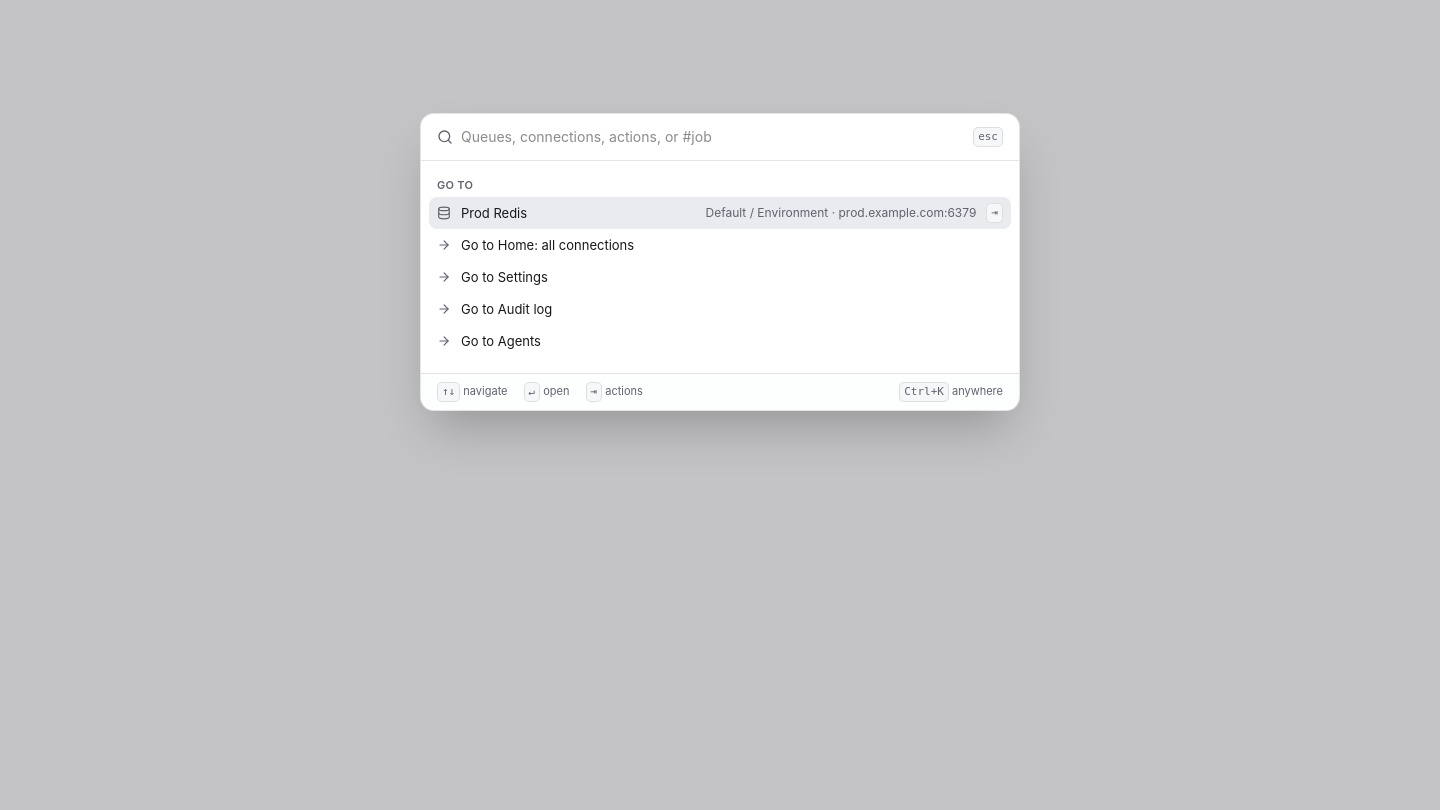
Scenario: CommandPalette › filters as the user types
This screenshot has width=1440, height=810.
Expected: the button with test id "command-palette-item-c1" is shown, x1=429 y1=197 x2=1011 y2=229
Type "audit" into the field with test id "command-palette-input" at [713, 137], box x1=461 y1=114 x2=965 y2=160
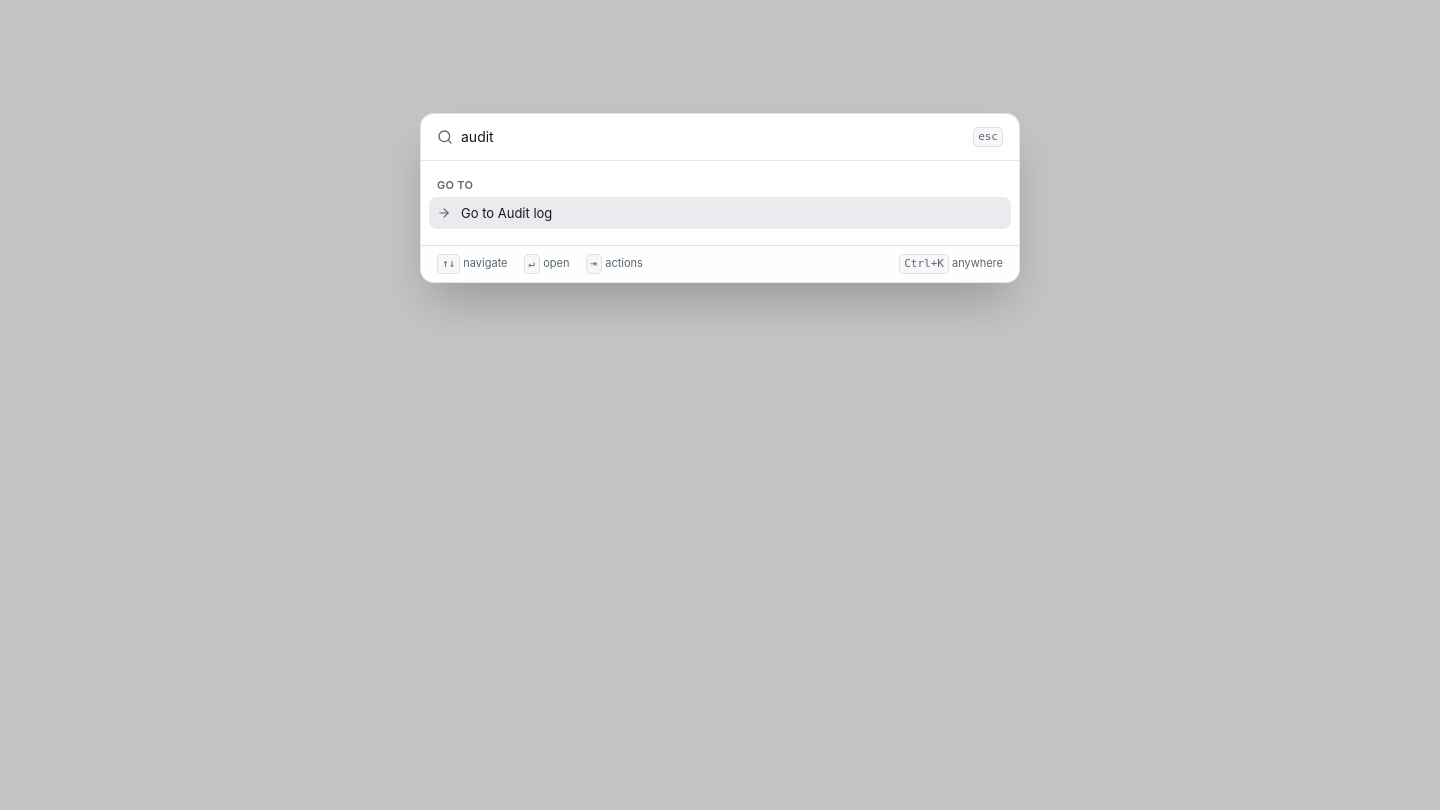
Expected: the button with test id "command-palette-item-go-audit" is shown, x1=429 y1=197 x2=1011 y2=229
Result: the button with test id "command-palette-item-c1" is gone
